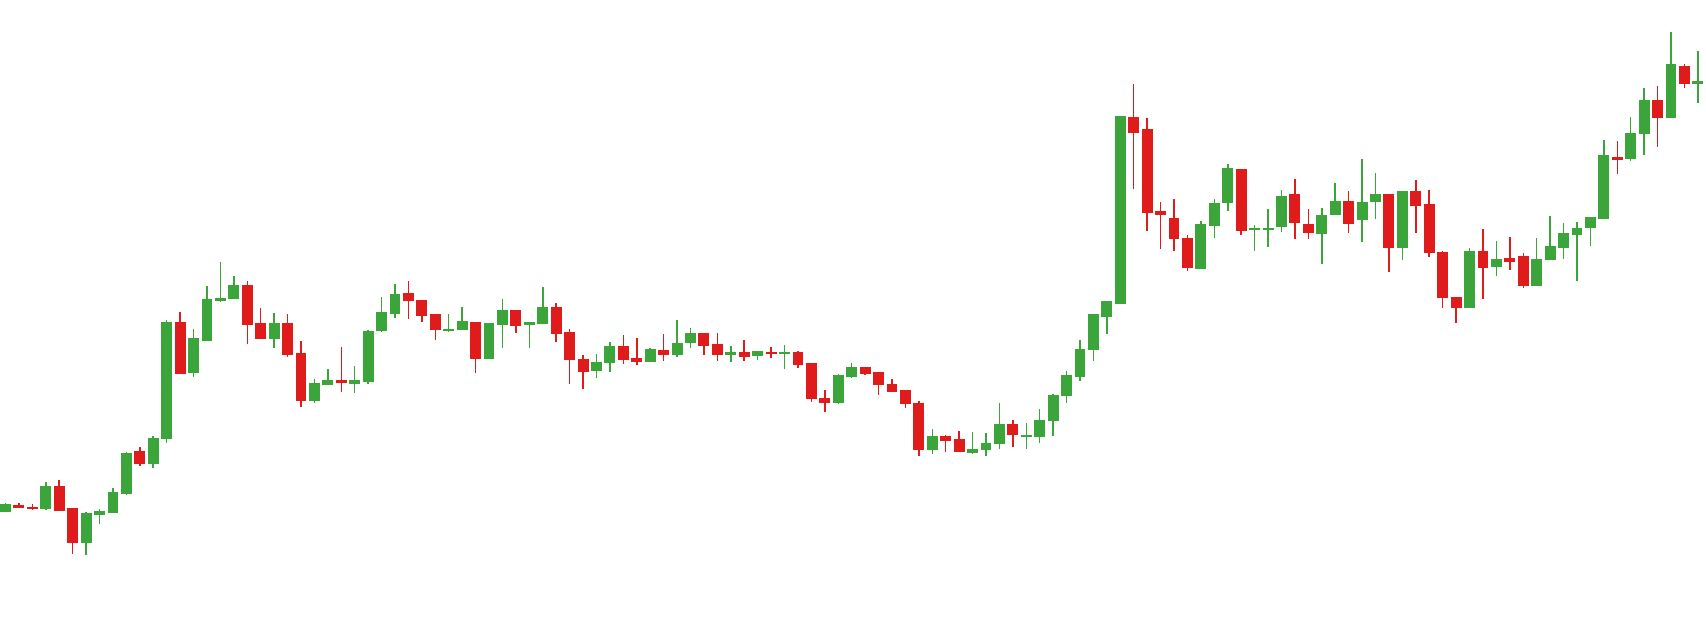buy: (1379, 202, 1478, 326)
